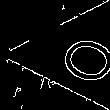O_NW: (35, 24, 110, 86)
